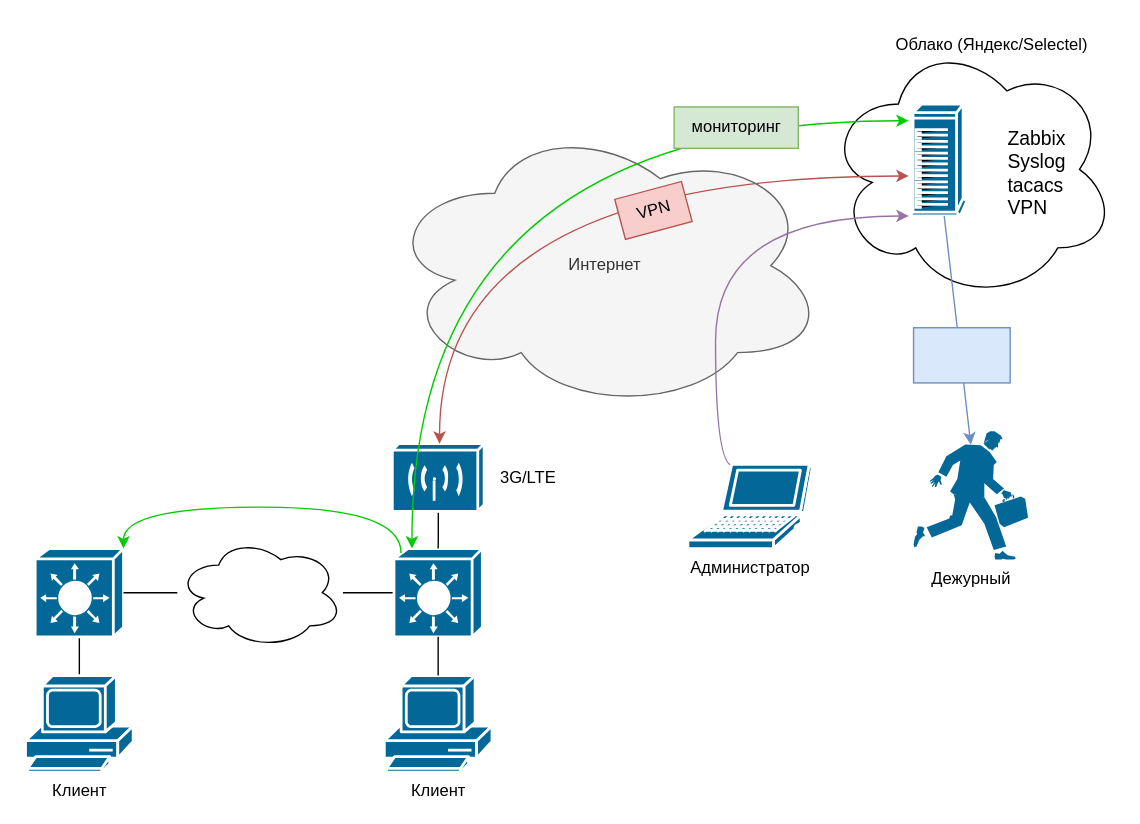
The diagram is 1140 pixels wide and 824 high, and some of its shapes have lost their labels. Each missing label, with the box of its shape:
e-mail/ telegram: (912, 326, 1010, 383)
Канал: (176, 536, 343, 648)
Сервер: (907, 102, 967, 217)
